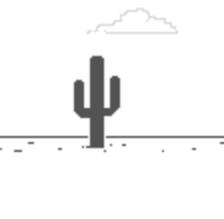cactus: (64, 53, 132, 158)
